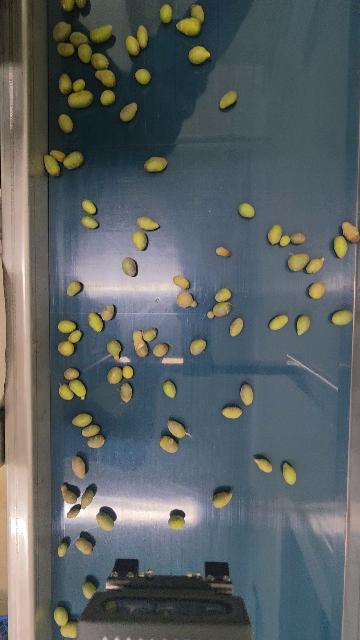Baby Potato: (66, 88, 94, 112), (251, 451, 274, 477), (330, 307, 357, 328), (165, 420, 194, 439), (218, 86, 239, 111), (176, 18, 203, 37), (285, 252, 310, 272), (116, 101, 138, 123), (175, 289, 198, 310), (133, 328, 149, 358), (281, 460, 298, 488), (265, 313, 290, 332), (52, 74, 74, 95), (144, 156, 170, 173), (207, 302, 233, 319), (342, 219, 359, 245), (188, 45, 211, 64), (237, 383, 255, 407), (95, 510, 115, 531), (62, 151, 84, 170), (90, 25, 113, 43), (95, 70, 118, 88), (95, 88, 118, 106), (71, 456, 87, 481), (69, 378, 87, 400), (44, 155, 61, 178), (333, 235, 349, 259), (51, 22, 71, 41), (91, 50, 110, 70), (59, 484, 78, 504), (75, 537, 94, 557), (172, 273, 192, 292), (212, 490, 233, 508), (268, 222, 284, 245), (75, 43, 93, 63), (159, 436, 179, 454), (223, 404, 243, 422), (57, 113, 74, 134), (107, 339, 123, 361), (68, 31, 91, 46), (227, 317, 244, 337), (125, 35, 141, 56), (121, 256, 137, 277), (88, 312, 104, 333), (72, 411, 93, 427), (107, 365, 123, 386), (137, 216, 159, 231), (190, 338, 208, 356), (56, 42, 76, 58), (133, 231, 149, 251), (57, 383, 73, 403), (240, 200, 255, 221), (307, 257, 324, 275), (58, 318, 78, 333), (79, 490, 94, 510), (136, 26, 149, 49), (65, 280, 82, 297), (60, 621, 77, 638), (81, 198, 97, 216), (99, 303, 115, 321), (52, 607, 68, 625), (120, 383, 133, 405), (295, 315, 310, 334), (308, 283, 323, 302), (158, 4, 172, 24), (191, 4, 205, 23), (80, 215, 99, 229), (82, 423, 101, 437), (59, 341, 75, 357), (66, 504, 82, 520), (134, 69, 151, 84), (216, 288, 231, 305), (63, 366, 81, 380), (168, 515, 186, 529), (163, 381, 177, 399), (144, 324, 158, 342), (81, 581, 96, 597), (153, 342, 169, 357), (49, 149, 66, 163), (88, 435, 105, 449), (216, 244, 232, 258), (70, 79, 86, 92), (122, 363, 134, 379), (68, 330, 83, 342), (278, 234, 290, 249), (60, 0, 74, 11), (291, 233, 305, 244), (58, 543, 68, 557), (75, 0, 86, 8)
